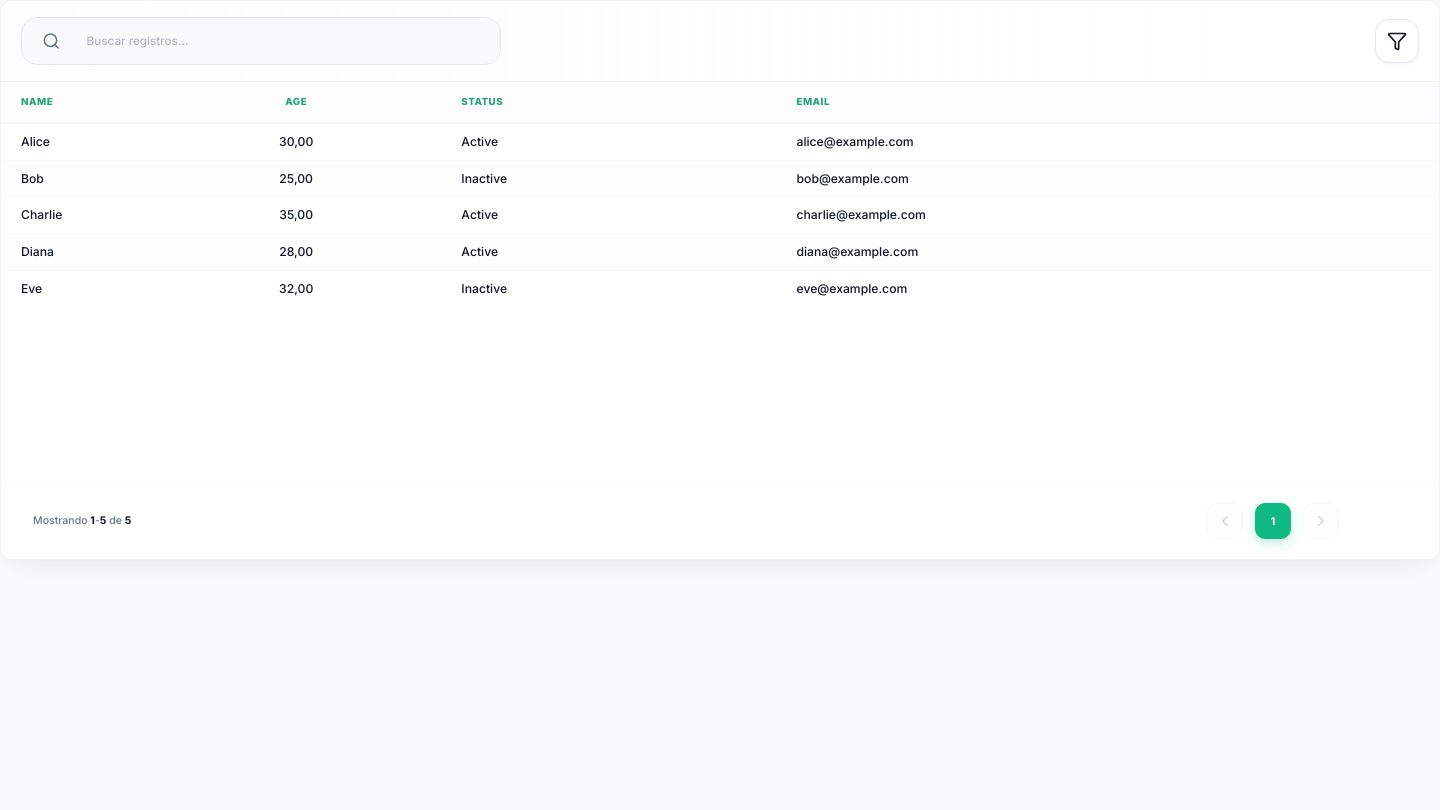
Test: ModernTable Integration Tests › Search and Filtering › filters data based on search term
Type "Alice" into the field with placeholder "Buscar registros..." at [276, 41], box [72,24,480,58]
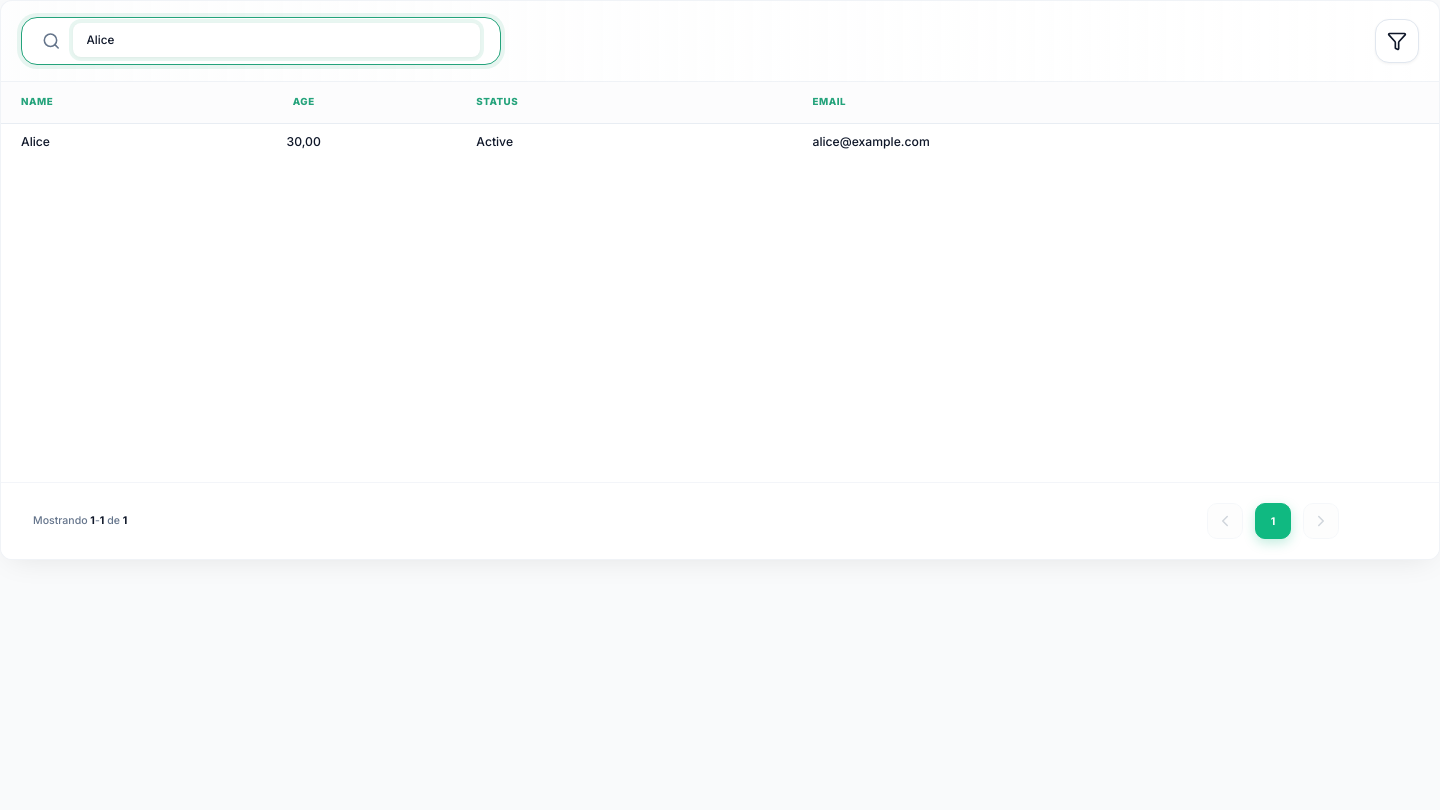
Expected: the text "Alice" is shown, [1,123,151,160]
Expected: the text "Bob" is gone
Expected: the text "Charlie" is gone
